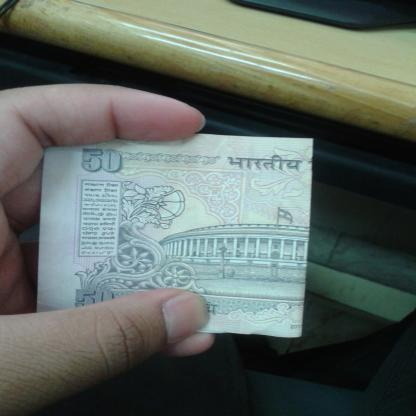Old50Back: (35, 132, 314, 340)
